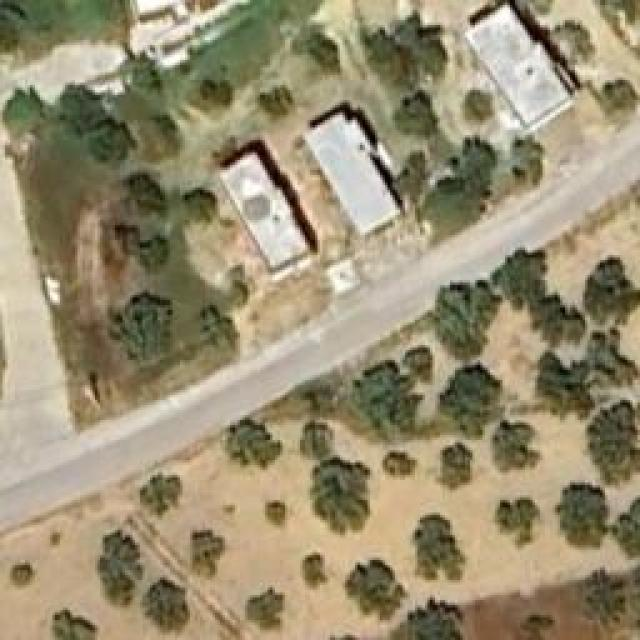Tree: (360, 13, 448, 138), (353, 348, 436, 441), (53, 85, 138, 163), (423, 137, 498, 225), (422, 280, 500, 360), (108, 293, 173, 363), (587, 400, 640, 485), (410, 513, 468, 588), (345, 558, 405, 623), (315, 460, 368, 533), (580, 257, 635, 325), (538, 353, 593, 418), (440, 365, 503, 420), (98, 530, 143, 605), (555, 485, 608, 548), (527, 290, 585, 345), (495, 247, 548, 305), (393, 600, 468, 640), (490, 420, 540, 473), (190, 298, 237, 352), (0, 85, 49, 136), (495, 498, 540, 551), (228, 423, 281, 468), (583, 575, 628, 625), (148, 580, 188, 628), (190, 530, 228, 578), (513, 135, 546, 190), (440, 442, 475, 490), (140, 475, 183, 513), (615, 495, 640, 558), (190, 78, 233, 113), (52, 607, 97, 640), (128, 178, 163, 218), (178, 185, 218, 220), (248, 590, 283, 628), (603, 78, 636, 118), (137, 235, 165, 278), (305, 33, 338, 68), (463, 90, 496, 125), (263, 493, 296, 528), (298, 423, 333, 456), (257, 88, 295, 118), (303, 553, 326, 588), (383, 453, 416, 476), (10, 563, 35, 588)
